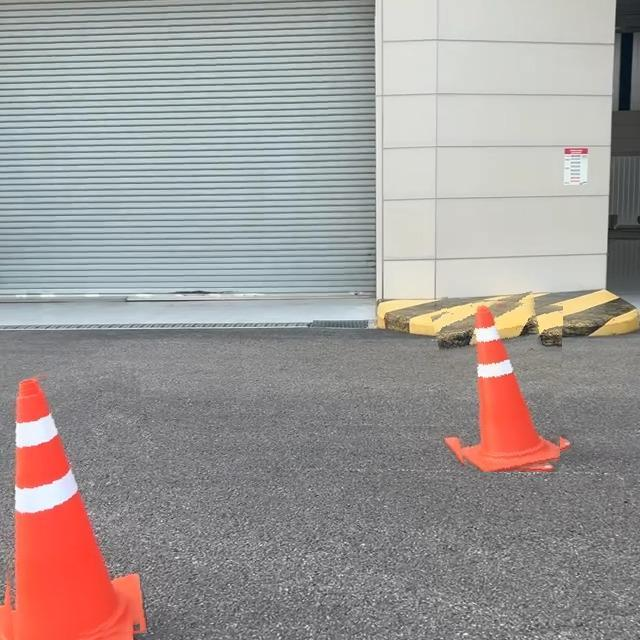fallen_object: (0, 340, 168, 640), (402, 286, 574, 521)
